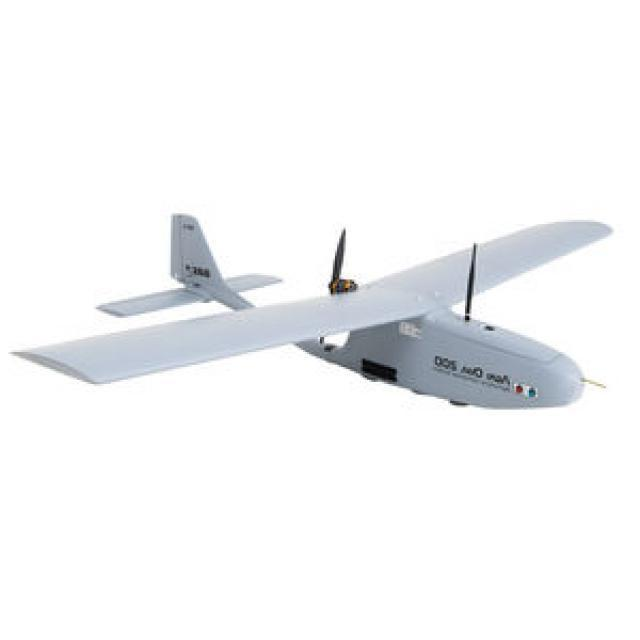iha: (6, 204, 633, 415)
